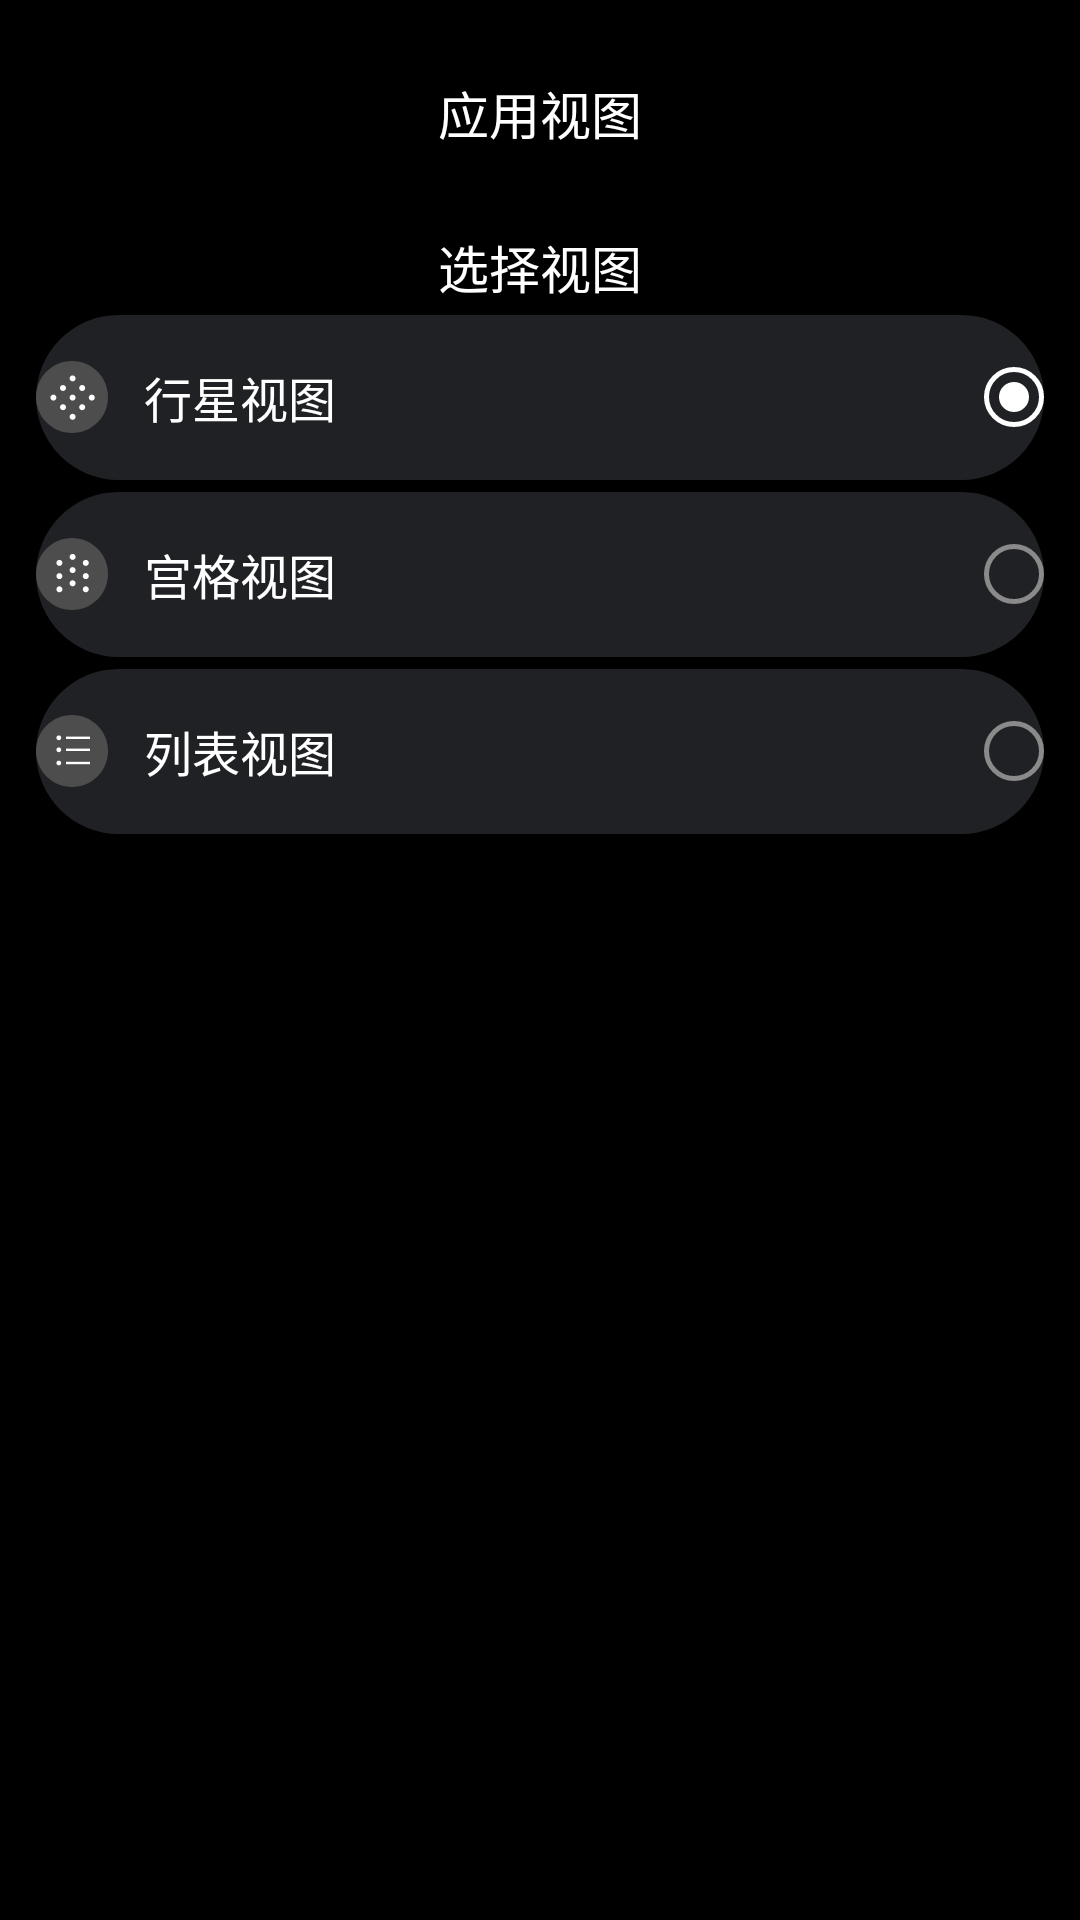

Where to tap for icons on this 1080px x 1920px app screen, as (x,y):
applist honeycomb style: (72,397)
applist lattice style: (72,574)
applist vertical style: (72,751)
radio off: (1014,574), (1014,751)
radio on: (1014,397)
